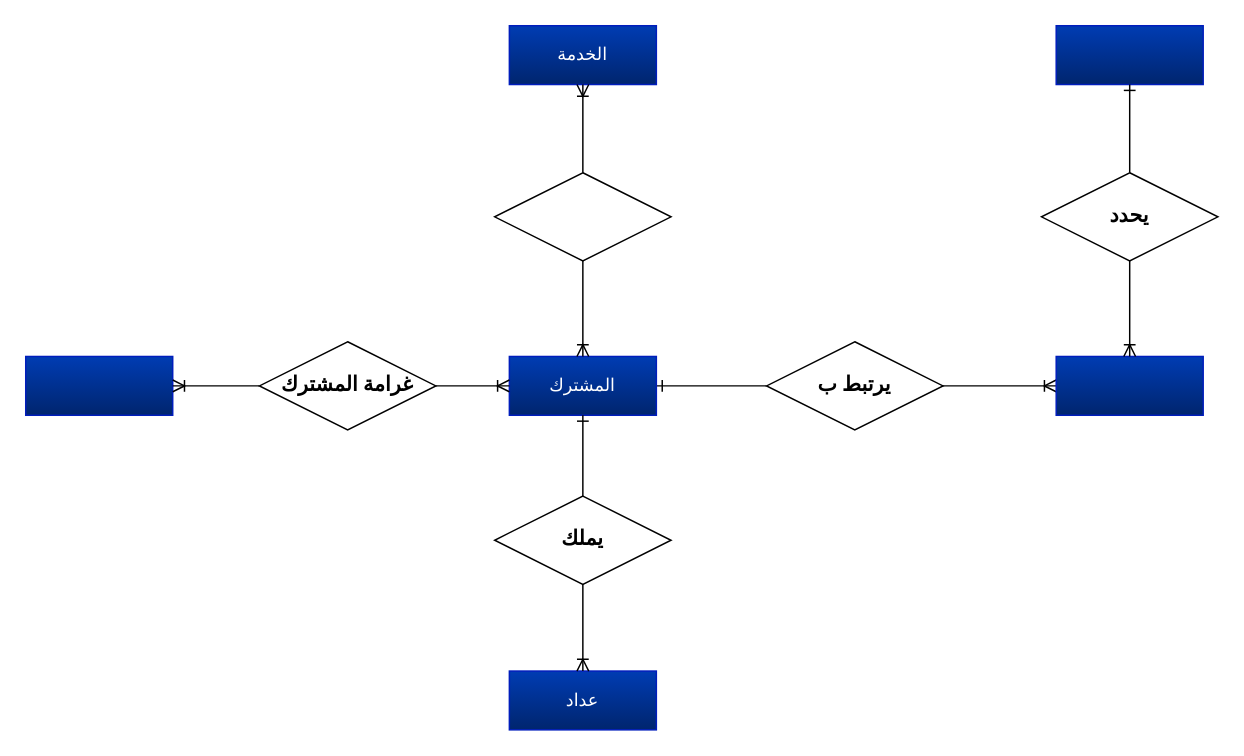
Image size: 1244x756. Some labels were removed from this diagram. The box of each missing label's shape, as (x1, y1, x2, y2) in pixels:
طلب الخدمة: (493, 171, 671, 261)
غرامة: (24, 355, 173, 415)
نموذج العقد: (1055, 355, 1203, 415)
نوع العقد: (1055, 24, 1203, 85)
